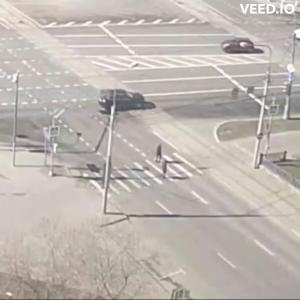car: (99, 89, 157, 115), (222, 39, 271, 59)
